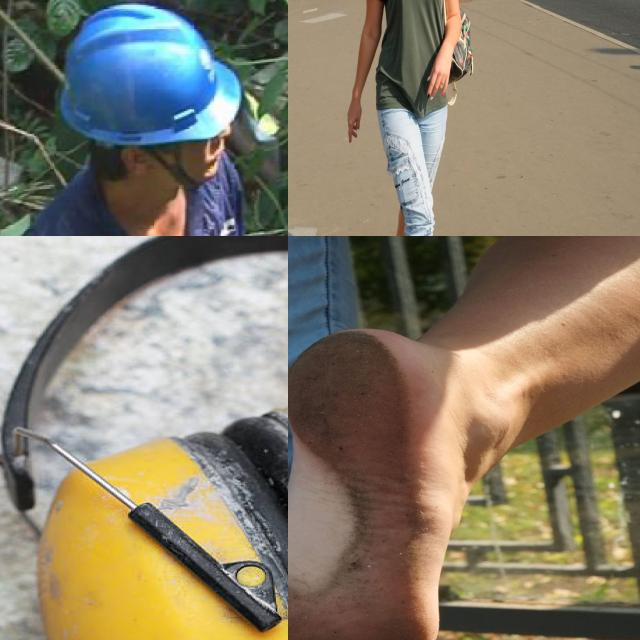Barefoots: (288, 327, 440, 640)
Ear-protection: (0, 236, 288, 640)
No_Ear-Protection: (118, 138, 151, 192)
face_nomask: (180, 132, 229, 183)
head_helmet: (60, 4, 242, 146)
